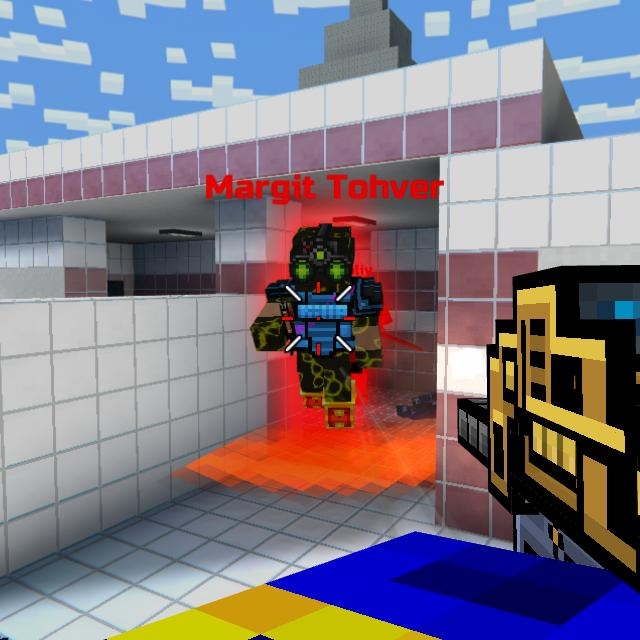Enemy: (253, 225, 388, 432)
